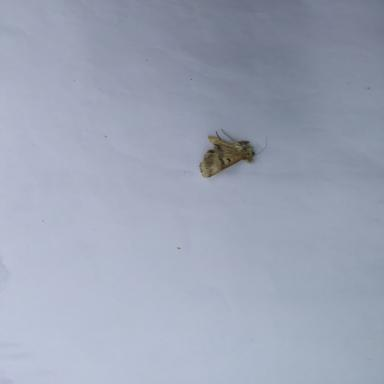abw: (197, 128, 270, 180)
